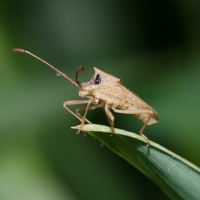insect: (12, 48, 158, 144)
